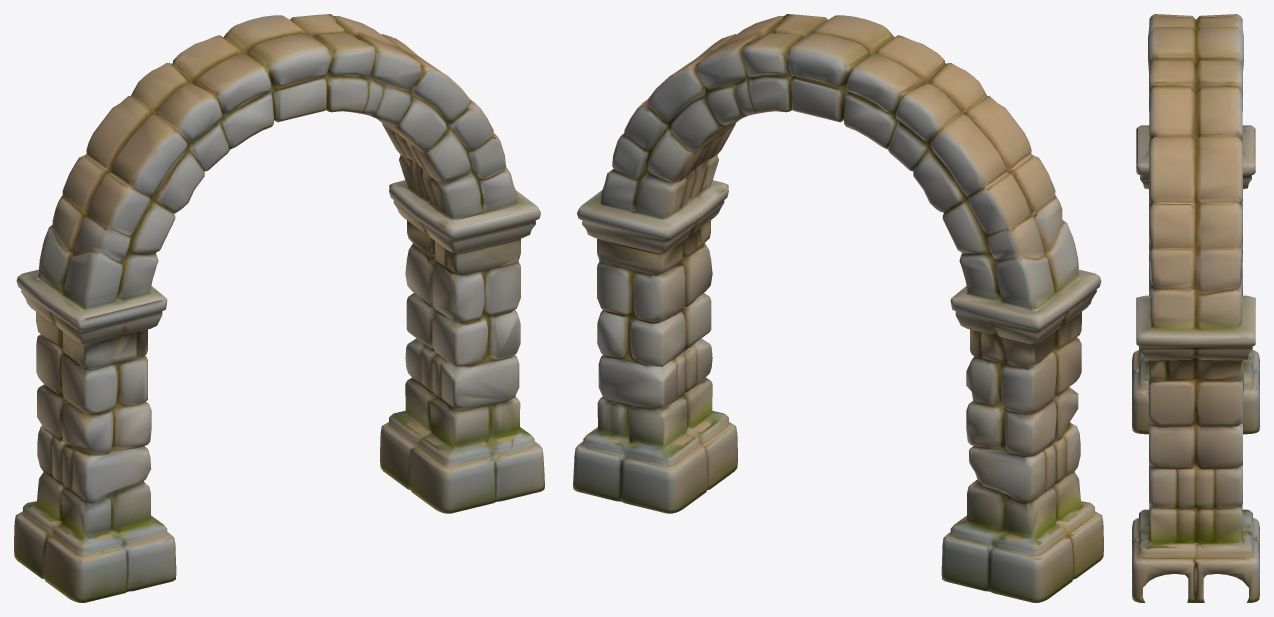
The model's file is Outdoor__a_stone_arch_da4a7c00_v1.cluster.glb.
3 renders of one model, left to right at view 1: azimuth 30°, elevation 25°; view 2: azimuth 150°, elevation 25°; view 3: azimuth 270°, elevation 25°, orthographic. The views are drawn at different scales.
Parts seen in each view (by area): view 1: material; view 2: material; view 3: material.
Part boxes in pixels (x1=…): material: x1=14, y1=14, x2=544, y2=602; material: x1=573, y1=14, x2=1103, y2=602; material: x1=1132, y1=14, x2=1259, y2=602.
Size of the model in its own units: 1.9 by 1.88 by 0.4746.
Materials: 1 (1 with a texture image).
